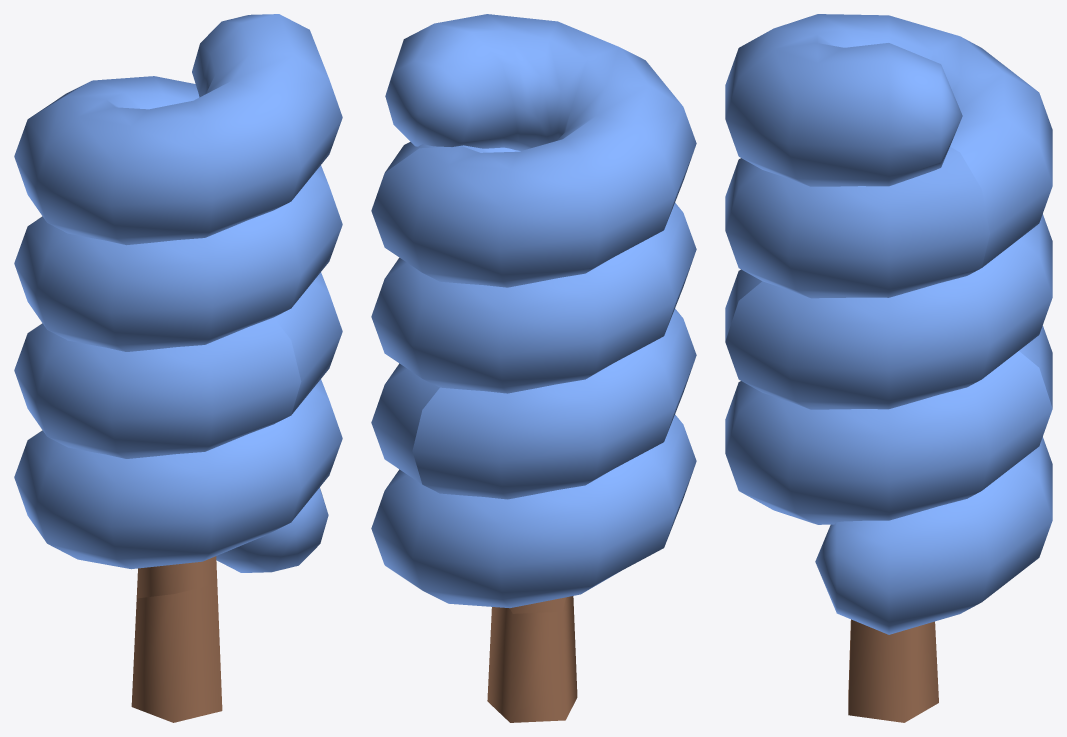
The picture shows the model from 3 angles, left to right: view 1: azimuth 30°, elevation 25°; view 2: azimuth 150°, elevation 25°; view 3: azimuth 270°, elevation 25°; orthographic projection. The views are drawn at different scales.
Parts seen in each view (by area): view 1: polySurface38, polySurface35, polySurface37, polySurface36, polySurface44, polySurface43; view 2: polySurface38, polySurface35, polySurface37, polySurface36, polySurface44, polySurface43; view 3: polySurface37, polySurface35, polySurface38, polySurface44, polySurface36.
Boxes of the visible parts, <box> form: polySurface38: <box>14,14,342,245</box>; polySurface35: <box>14,379,342,572</box>; polySurface37: <box>14,165,342,414</box>; polySurface36: <box>14,317,301,458</box>; polySurface44: <box>131,583,222,722</box>; polySurface43: <box>136,556,217,598</box>; polySurface38: <box>371,14,696,287</box>; polySurface35: <box>371,363,696,608</box>; polySurface37: <box>371,142,696,393</box>; polySurface36: <box>412,308,696,499</box>; polySurface44: <box>487,596,577,722</box>; polySurface43: <box>510,597,565,613</box>; polySurface37: <box>725,147,1052,409</box>; polySurface35: <box>725,351,1052,634</box>; polySurface38: <box>725,14,1052,267</box>; polySurface44: <box>848,619,938,722</box>; polySurface36: <box>725,269,1052,407</box>.
Size of the model in its own units: 14 by 31.05 by 13.31.
